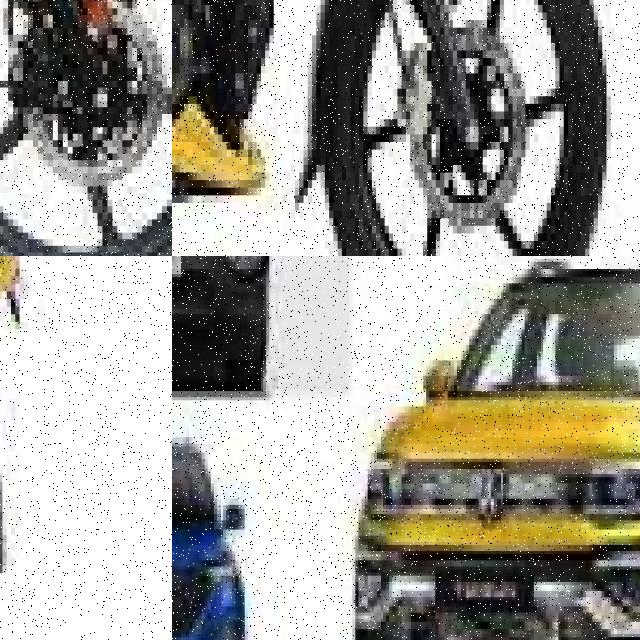bike: (172, 0, 615, 256), (0, 0, 172, 256), (0, 256, 41, 640)
car: (346, 256, 640, 640), (172, 357, 306, 640), (172, 256, 309, 400)
